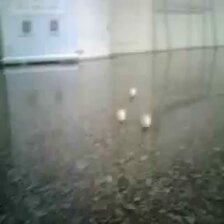tennis: (127, 178, 166, 224), (29, 103, 56, 134), (69, 68, 84, 87)
